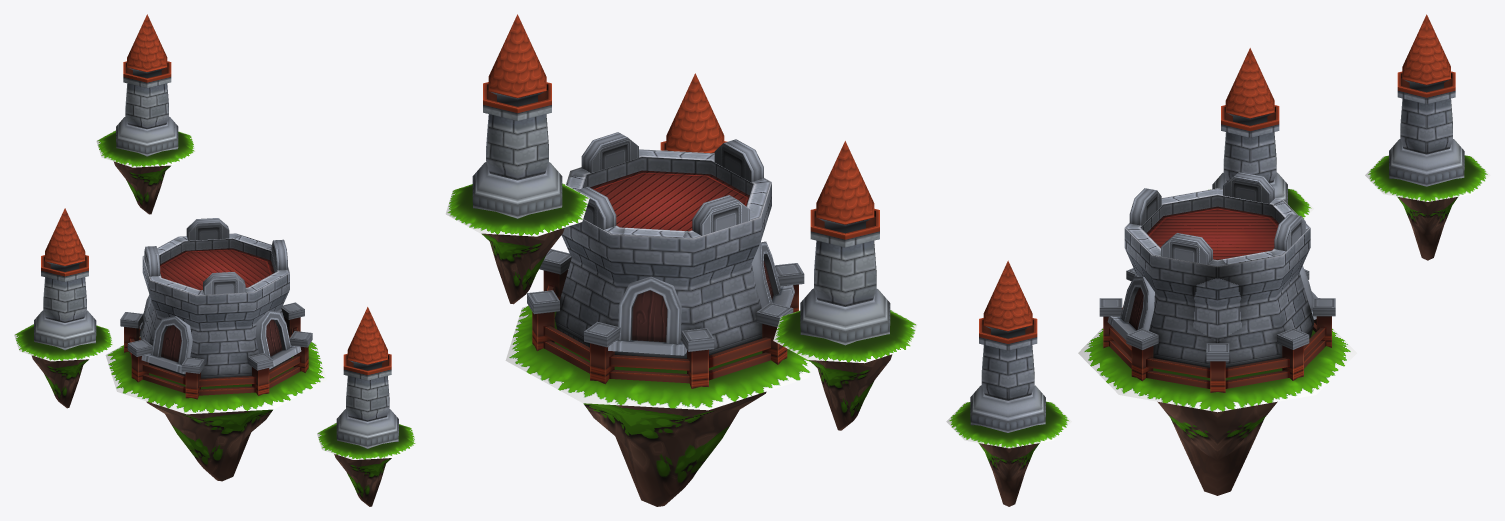
Rendered from MageTower_Level3.FBX.
The picture shows the model from 3 angles, left to right: view 1: azimuth 30°, elevation 25°; view 2: azimuth 150°, elevation 25°; view 3: azimuth 270°, elevation 25°; orthographic projection. The views are drawn at different scales.
Parts seen in each view (by area): view 1: MageTower_Level3; view 2: MageTower_Level3; view 3: MageTower_Level3.
Part boxes in pixels (x1,y1,x2,y2): MageTower_Level3: [14, 14, 416, 506]; MageTower_Level3: [445, 14, 917, 506]; MageTower_Level3: [946, 14, 1490, 506].
Bounding box in the file's own units: 81.34 × 106 × 108.
